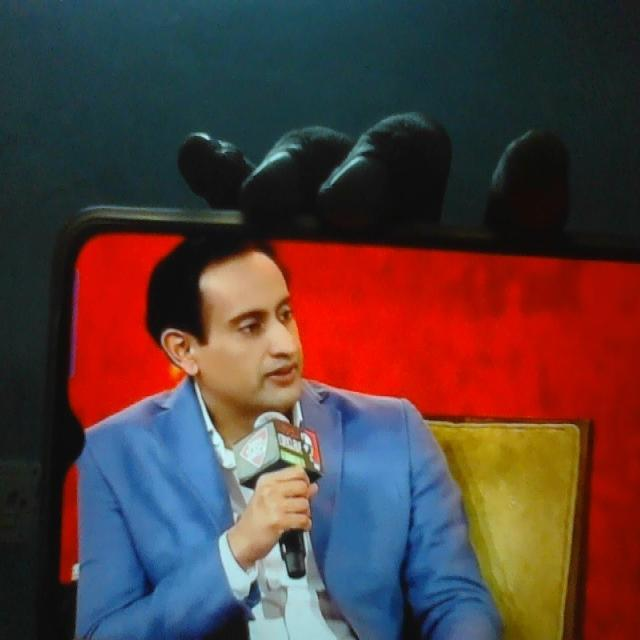fake: (187, 211, 303, 429)
